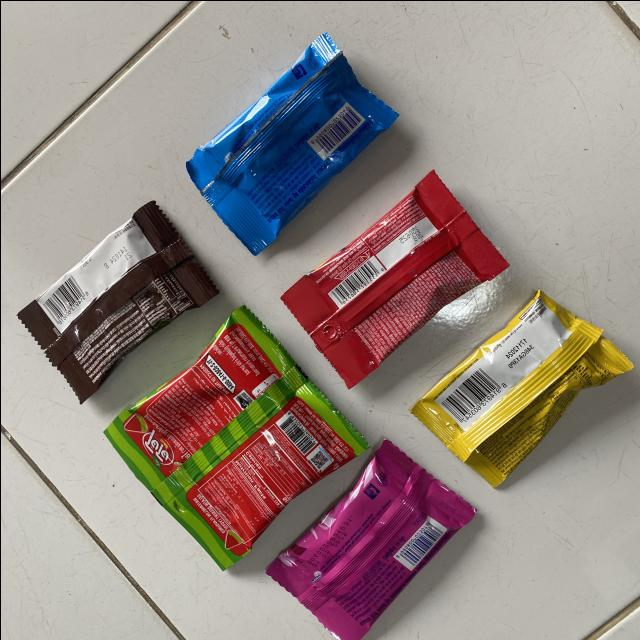plastik: (104, 305, 367, 568), (281, 170, 507, 387), (186, 32, 397, 254), (411, 290, 632, 486), (265, 439, 475, 640), (17, 200, 217, 401)
